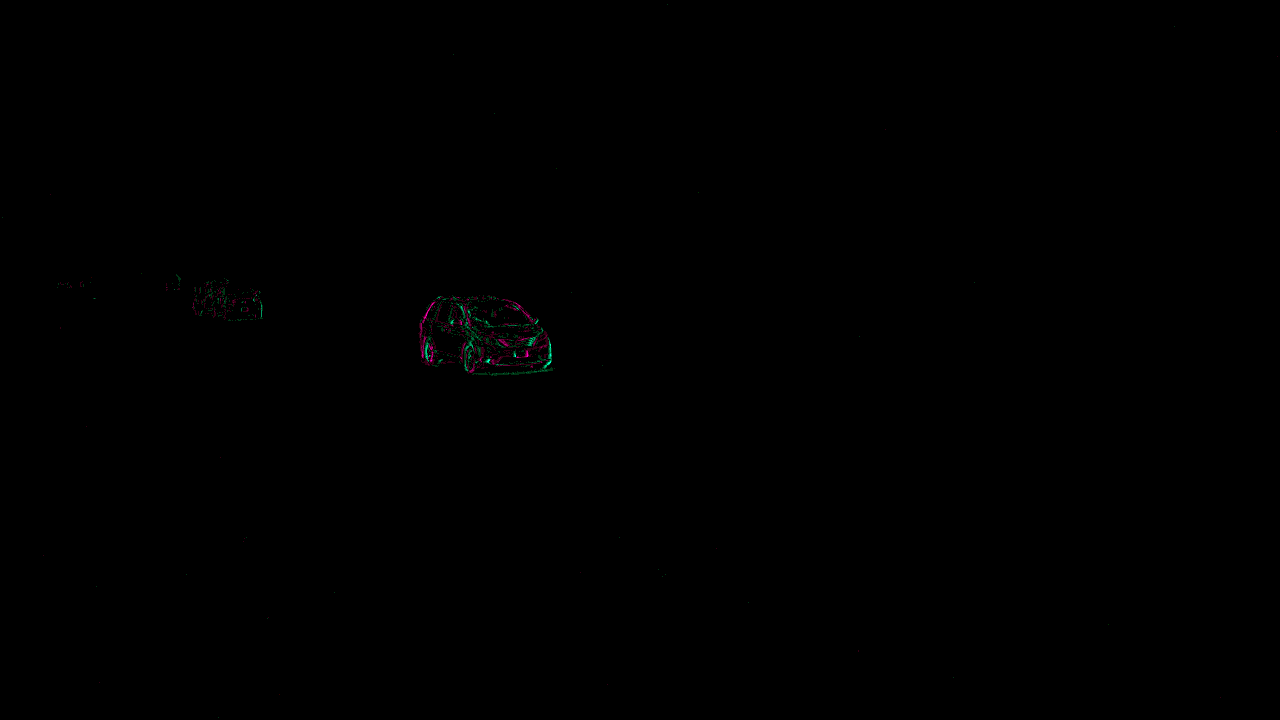car: (421, 295, 551, 372), (1226, 300, 1279, 341), (213, 284, 262, 318), (193, 278, 227, 314), (166, 275, 179, 289)
